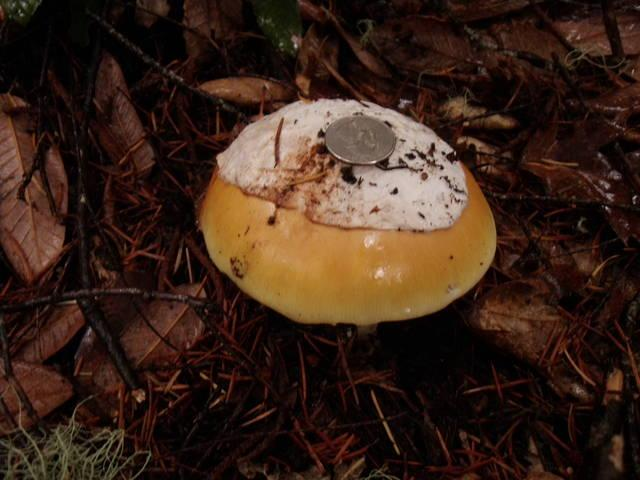edible_mushroom: (196, 95, 498, 332)
